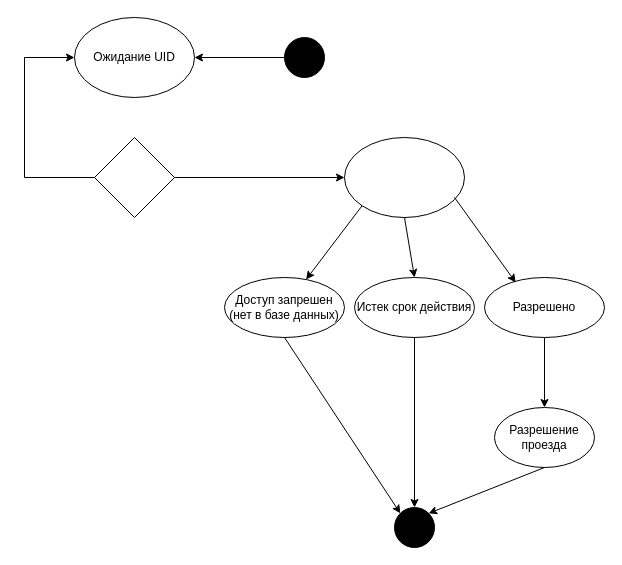
The diagram is 622 pixels wide and 565 high, and some of its shapes have lost their labels. Here are the shapes that lost their labels. From the top down, the centre of each, then its label:
At [134,177]: "Получено?".
At [404,177]: "Обработка UID".
